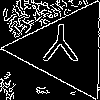Y: (41, 24, 80, 71)
